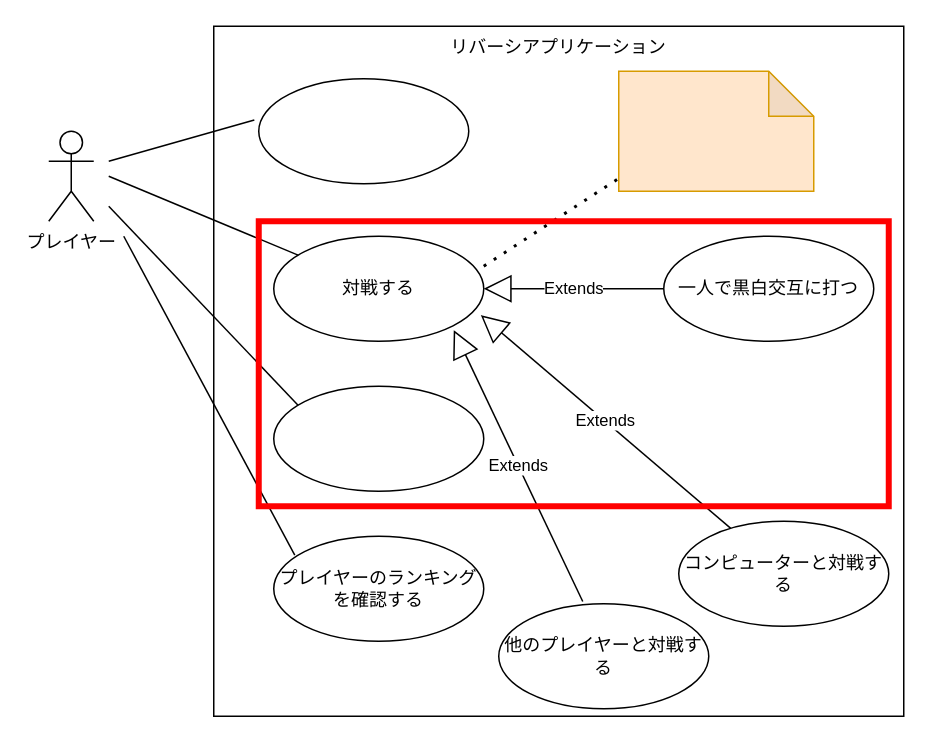
This 930x743 diagram has some shape labels left out. Here are the shapes that lost their labels. From the top down, the centre of each, then its label:
the point at 363,130: 会員登録・ ログインする
the point at 715,130: ・対戦を開始する ・盤面を見る ・勝敗を確認する
the point at 378,438: 自分の過去の対戦結果を確認する
